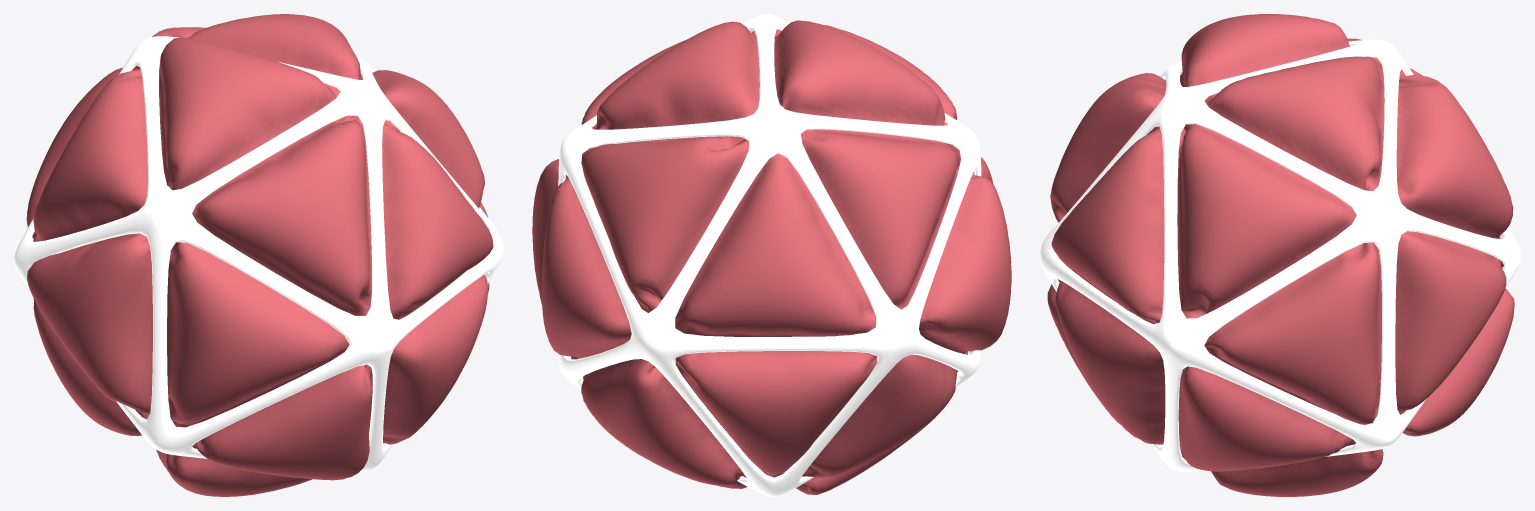
File: puff.glb
The picture shows the model from 3 angles, left to right: view 1: azimuth 30°, elevation 25°; view 2: azimuth 150°, elevation 25°; view 3: azimuth 270°, elevation 25°; orthographic projection.
Visible parts, largest first — view 1: Animated Puff ball; view 2: Animated Puff ball; view 3: Animated Puff ball.
Boxes of the visible parts, x1,y1,x2,y2 form: Animated Puff ball: [14, 14, 503, 496]; Animated Puff ball: [532, 14, 1011, 496]; Animated Puff ball: [1040, 14, 1520, 496].
Bounding box in the file's own units: 5.52 × 5.36 × 5.47.
